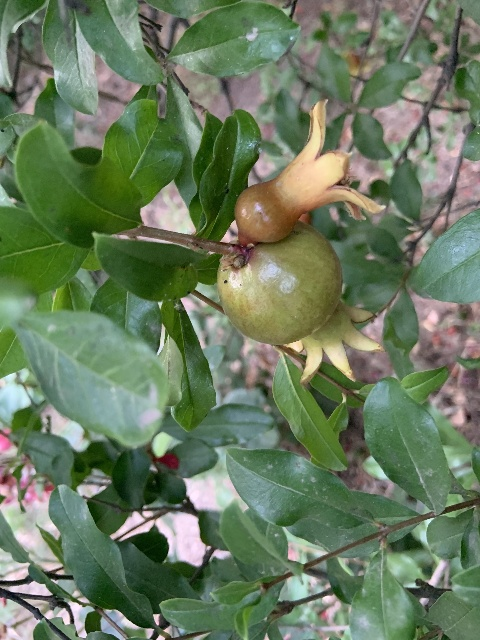early-fruit: (234, 97, 386, 242)
mid-growth: (217, 220, 386, 384)
